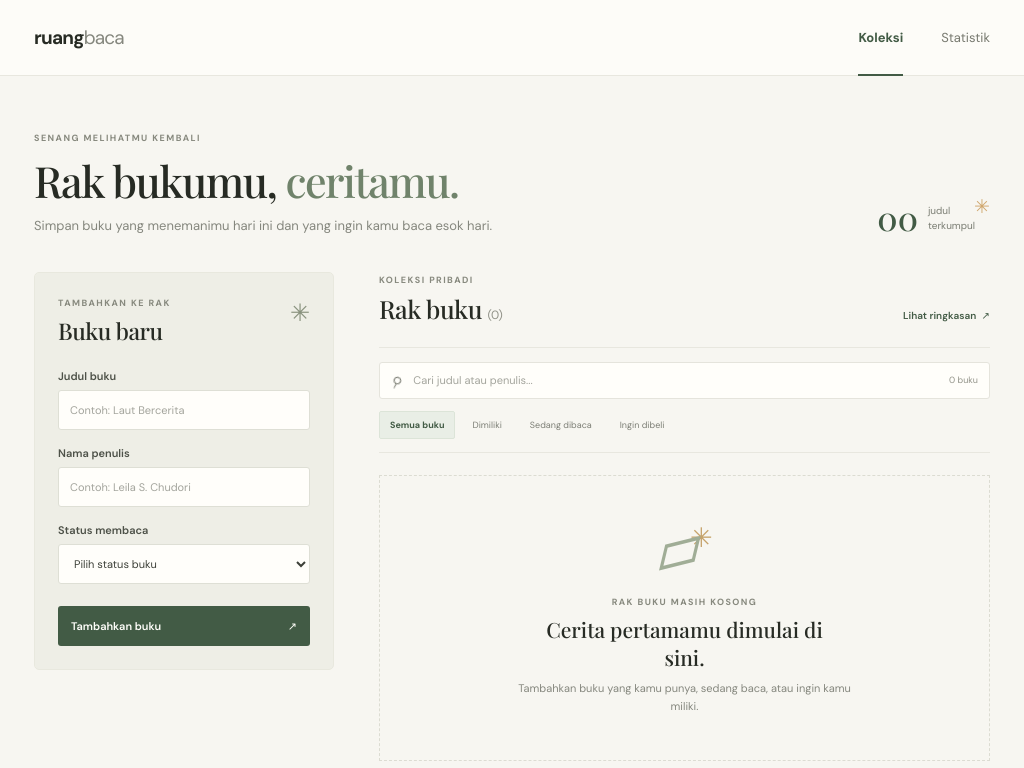
Test case: Aplikasi Ruang Baca › menampilkan validasi saat kolom wajib belum diisi
Step 1. Click the button "Tambahkan buku ↗" → (184, 626), box [58, 606, 310, 646]
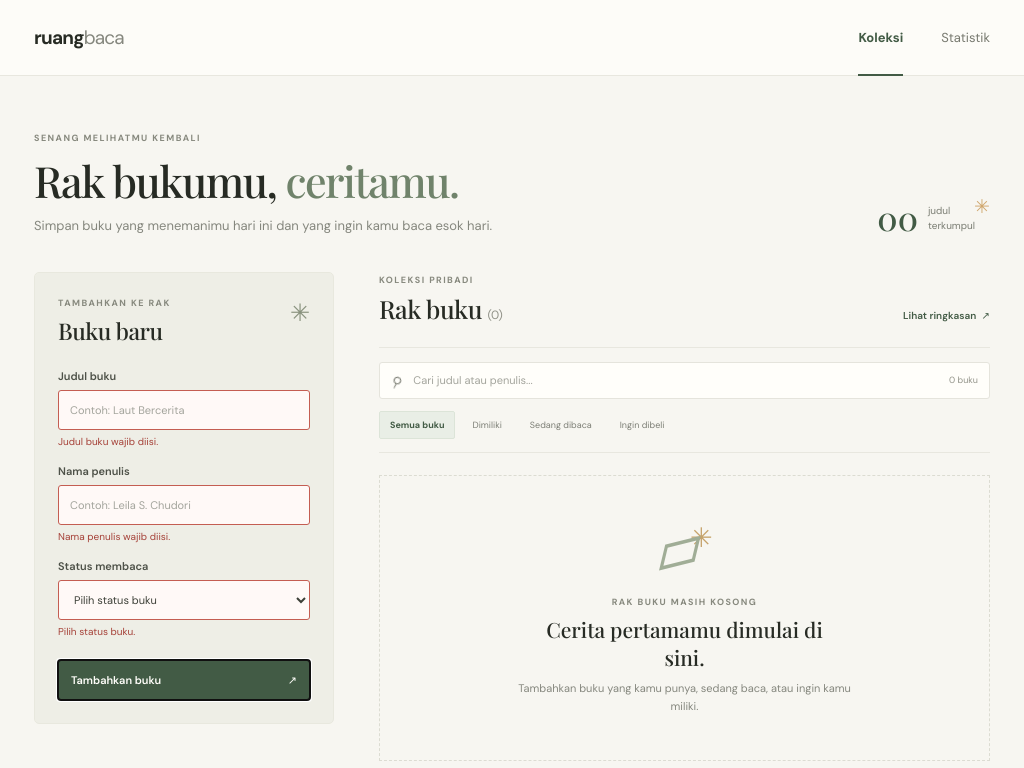
Now the text "Judul buku wajib diisi." is shown, box [58, 435, 158, 448]
Now the text "Nama penulis wajib diisi." is shown, box [58, 530, 170, 543]
Now the text "Pilih status buku." is shown, box [58, 625, 135, 638]
